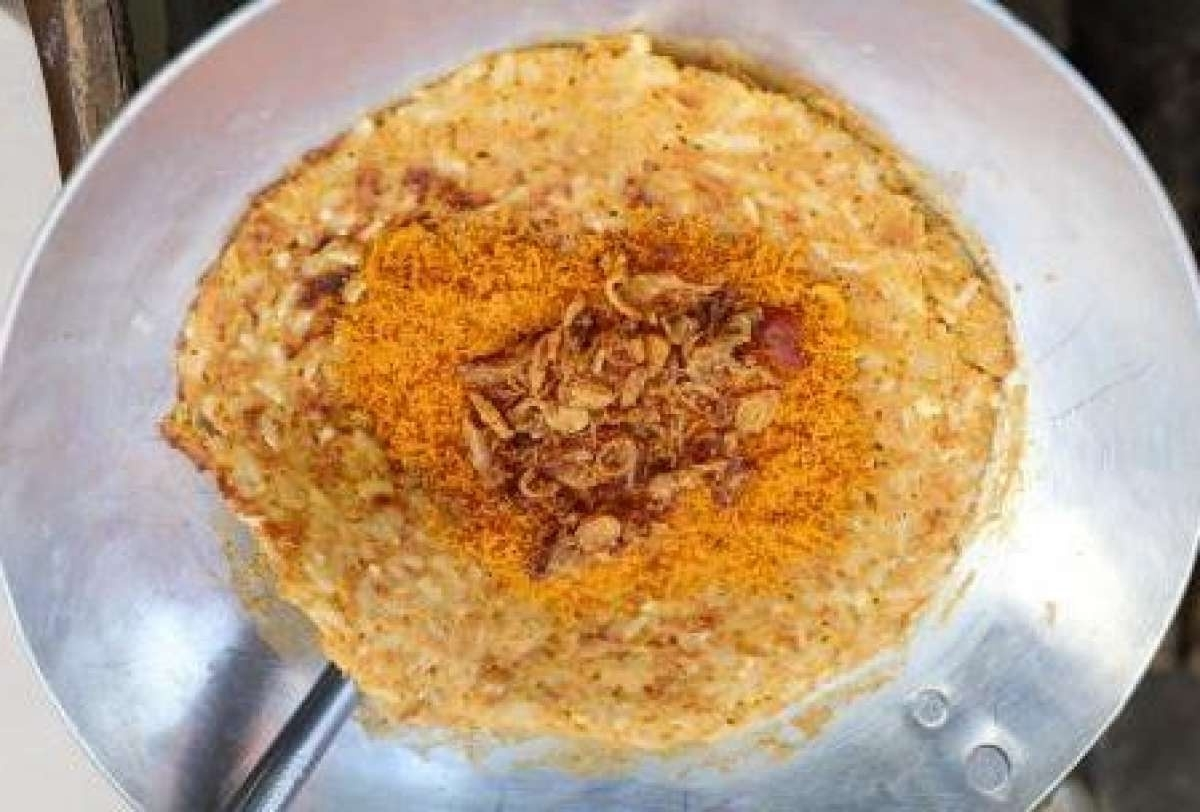kerak_telor: (163, 40, 1013, 751)
